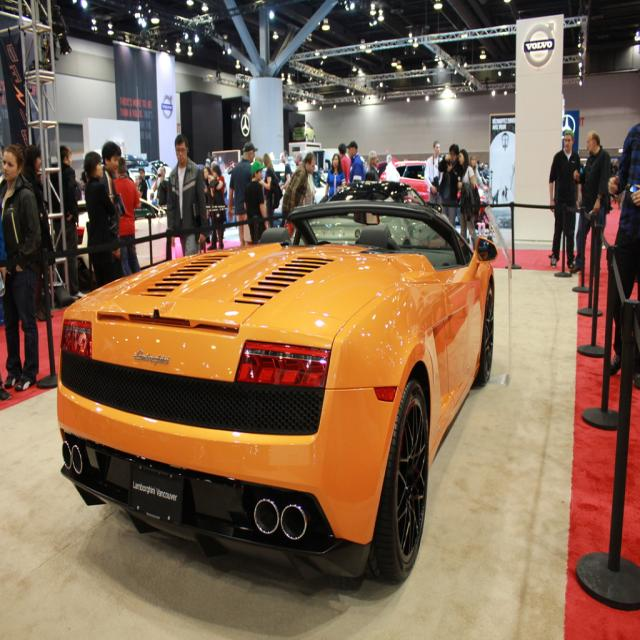car: (58, 192, 501, 580)
